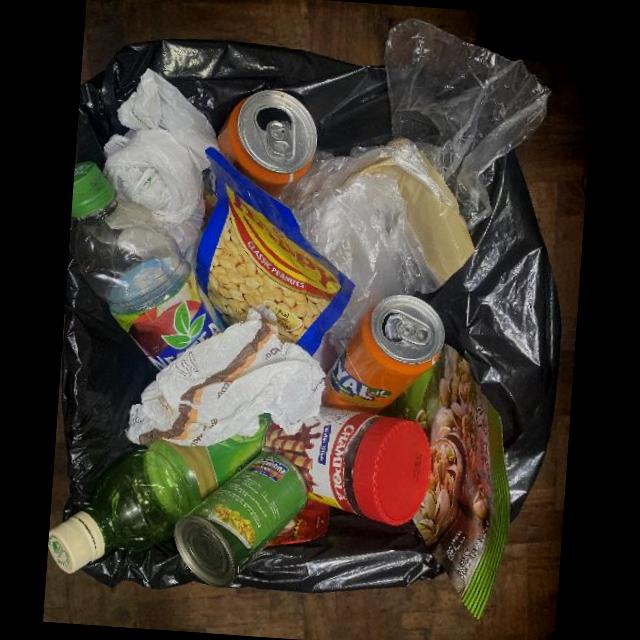bao_bi_thuc_pham: (381, 347, 510, 622), (193, 144, 357, 354)
chai_nhua: (47, 409, 269, 575)
chai_nhua_pet: (70, 159, 223, 370)
giay: (127, 322, 325, 446)
hop_nhua: (262, 407, 432, 525)
nhom: (172, 450, 310, 589), (324, 293, 446, 412), (216, 89, 316, 197)
tui_ni_long: (273, 18, 547, 343), (102, 67, 217, 264)
